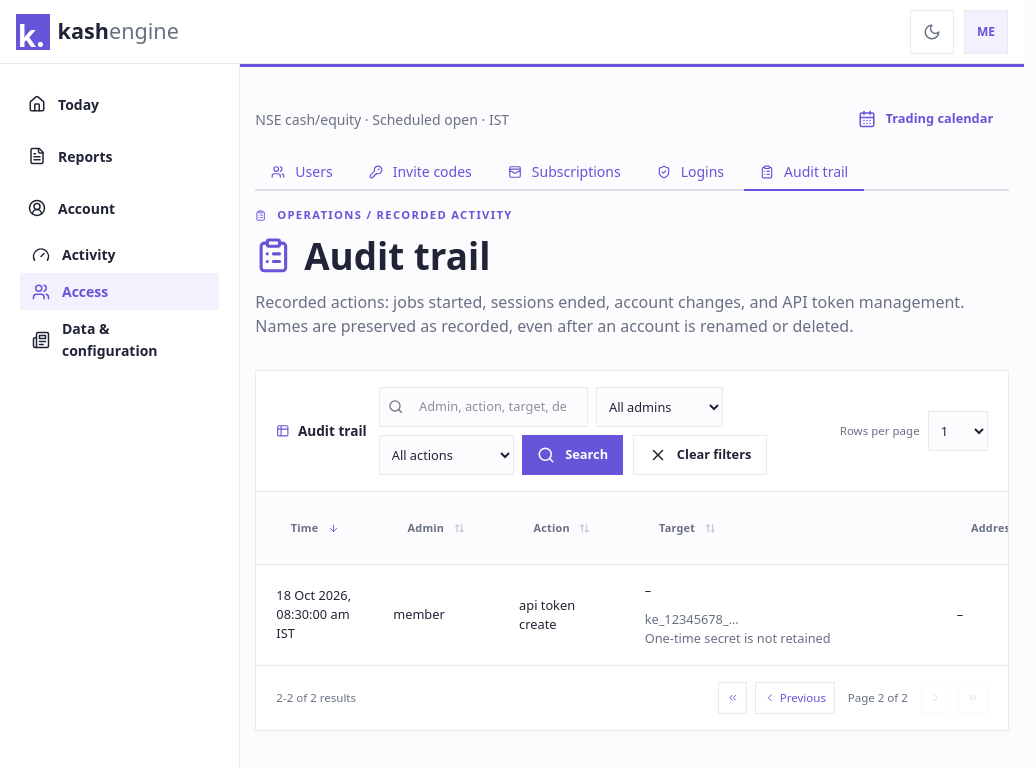
it: restores bookmarks, paginates on the server and retains filter/sort state
Expected: the heading "Audit trail" is shown, [255, 231, 490, 281]
Expected: the cell "Deleted admin" is not shown
Click the link "Previous": {"x": 795, "y": 698} [755, 682, 835, 714]
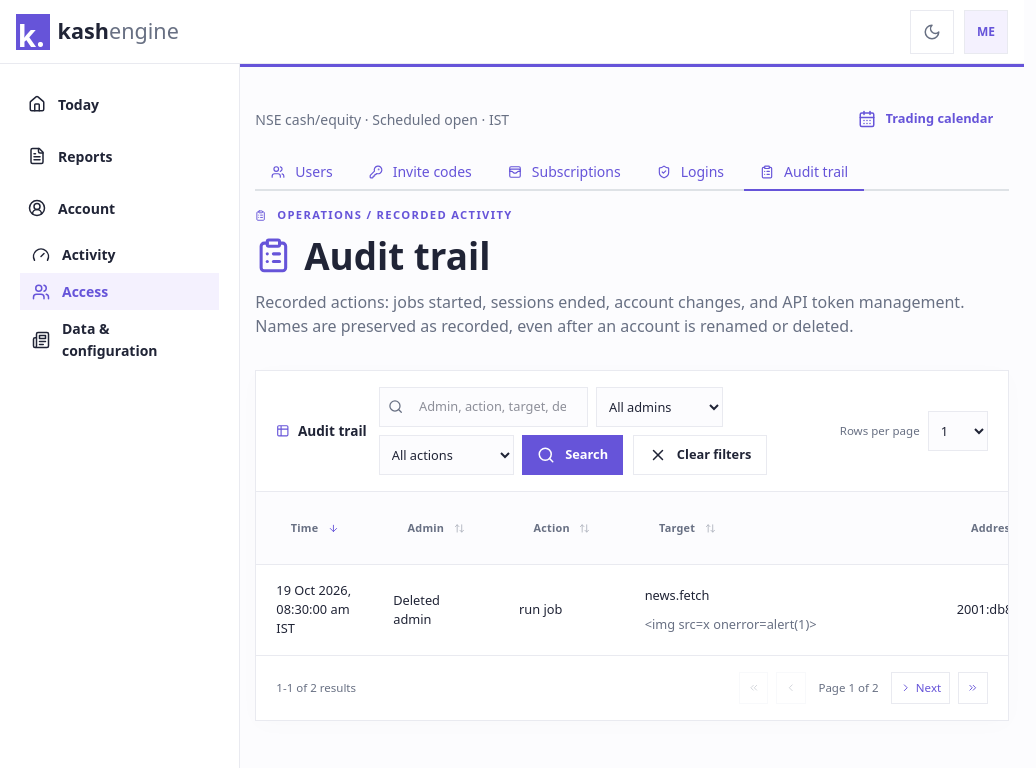
Result: the cell "Deleted admin" is shown at [373, 565, 499, 654]
